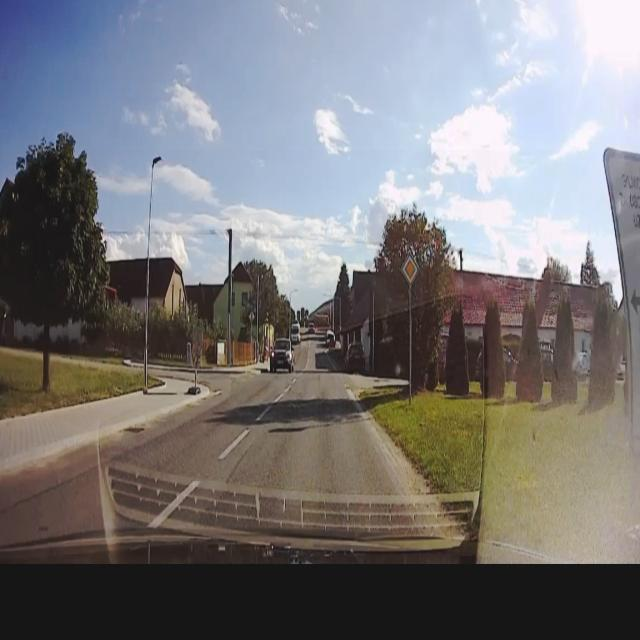Priority road: (399, 248, 422, 287)
